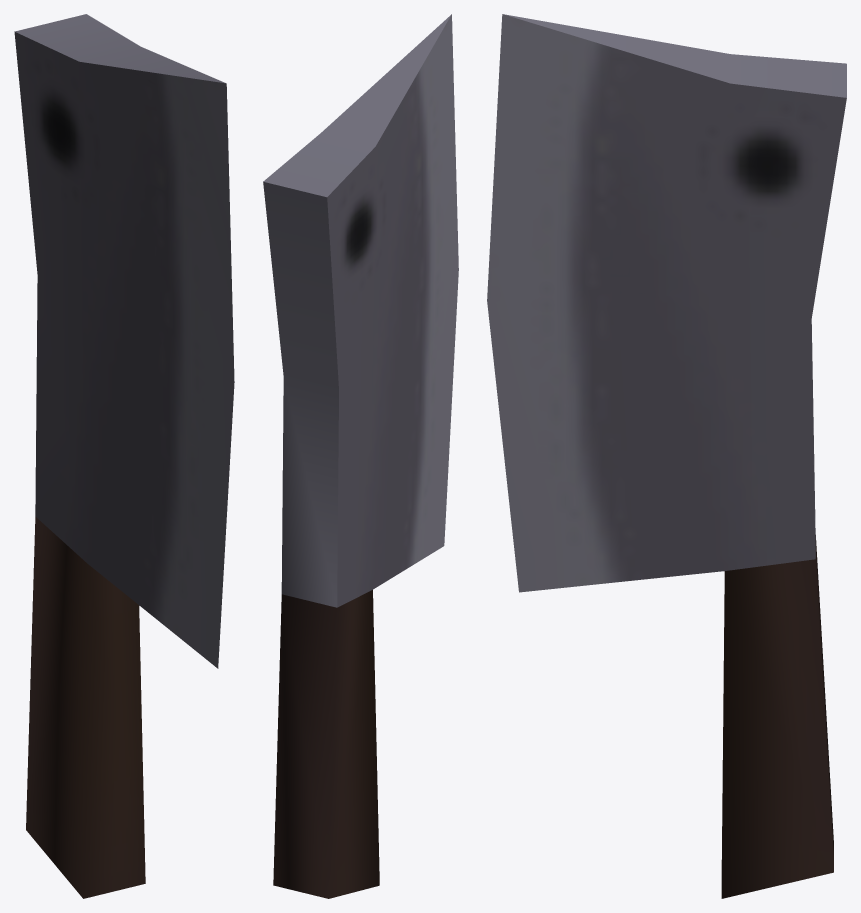
Rendered from w_cleaver.FBX.
3 renders of one model, left to right at view 1: azimuth 30°, elevation 25°; view 2: azimuth 150°, elevation 25°; view 3: azimuth 270°, elevation 25°, orthographic. The views are drawn at different scales.
Visible parts, largest first — view 1: w_cleaver; view 2: w_cleaver; view 3: w_cleaver.
Boxes of the visible parts, x1,y1,x2,y2 form: w_cleaver: (14, 14, 234, 898); w_cleaver: (263, 14, 458, 898); w_cleaver: (487, 14, 846, 898).
Bounding box in the file's own units: 2.72 × 32.07 × 12.02.
Materials: 1 (1 with a texture image).
